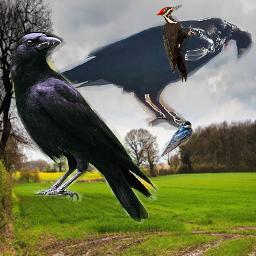Crow: (10, 32, 159, 224), (32, 15, 254, 130)
Swallow: (161, 120, 193, 157)
Woodpecker: (156, 5, 197, 83)
